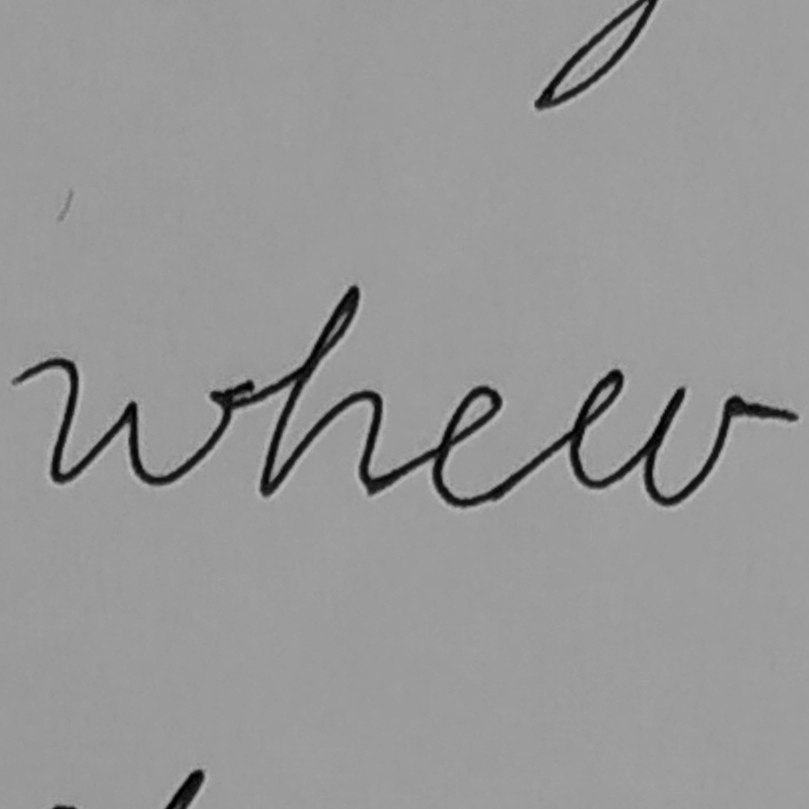e: (427, 381, 523, 510)
h: (255, 279, 388, 503)
w: (565, 361, 744, 511), (45, 354, 236, 494)
